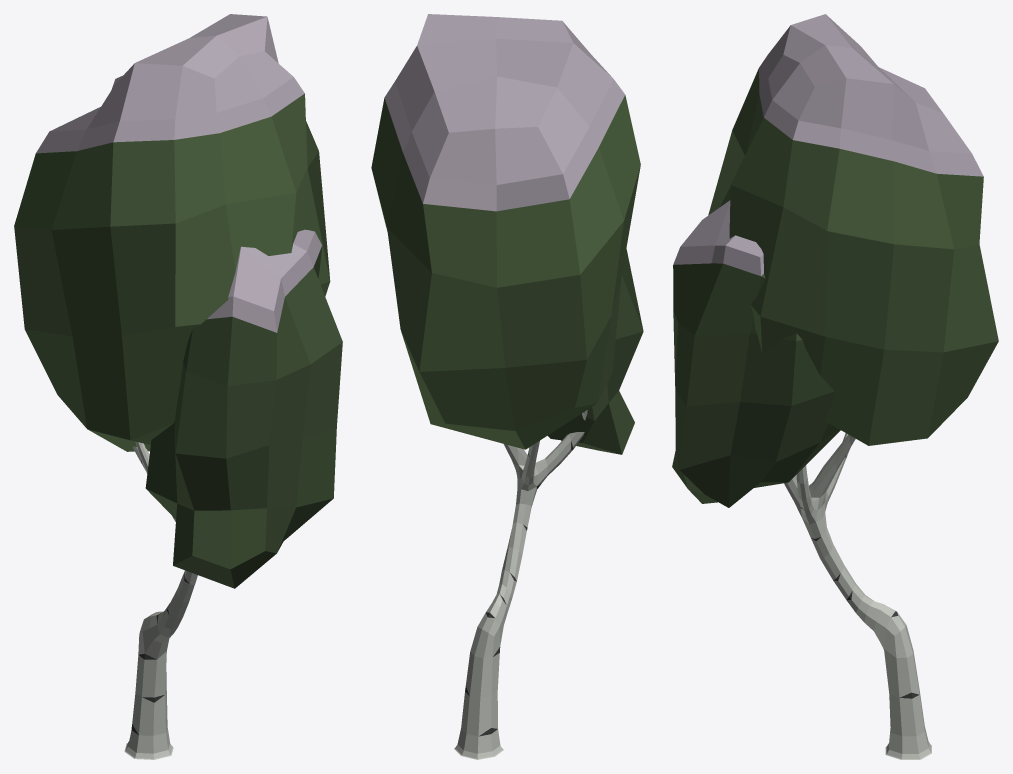
The model's file is BirchTree_Snow_2-transformed.glb.
The picture shows the model from 3 angles, left to right: view 1: azimuth 30°, elevation 25°; view 2: azimuth 150°, elevation 25°; view 3: azimuth 270°, elevation 25°; orthographic projection. The views are drawn at different scales.
Visible parts, largest first — view 1: BirchTree_Snow_2; view 2: BirchTree_Snow_2; view 3: BirchTree_Snow_2.
Boxes of the visible parts, x1,y1,x2,y2 form: BirchTree_Snow_2: (14, 14, 342, 759); BirchTree_Snow_2: (371, 14, 643, 759); BirchTree_Snow_2: (672, 14, 998, 759).
Size of the model in its own units: 1.47 by 4.09 by 1.69.
1 material, 1 textured.
